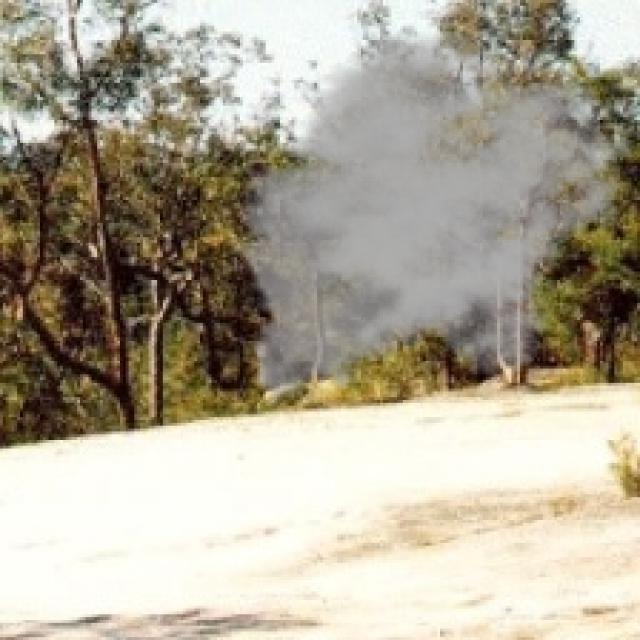smoke: (229, 29, 637, 414)
